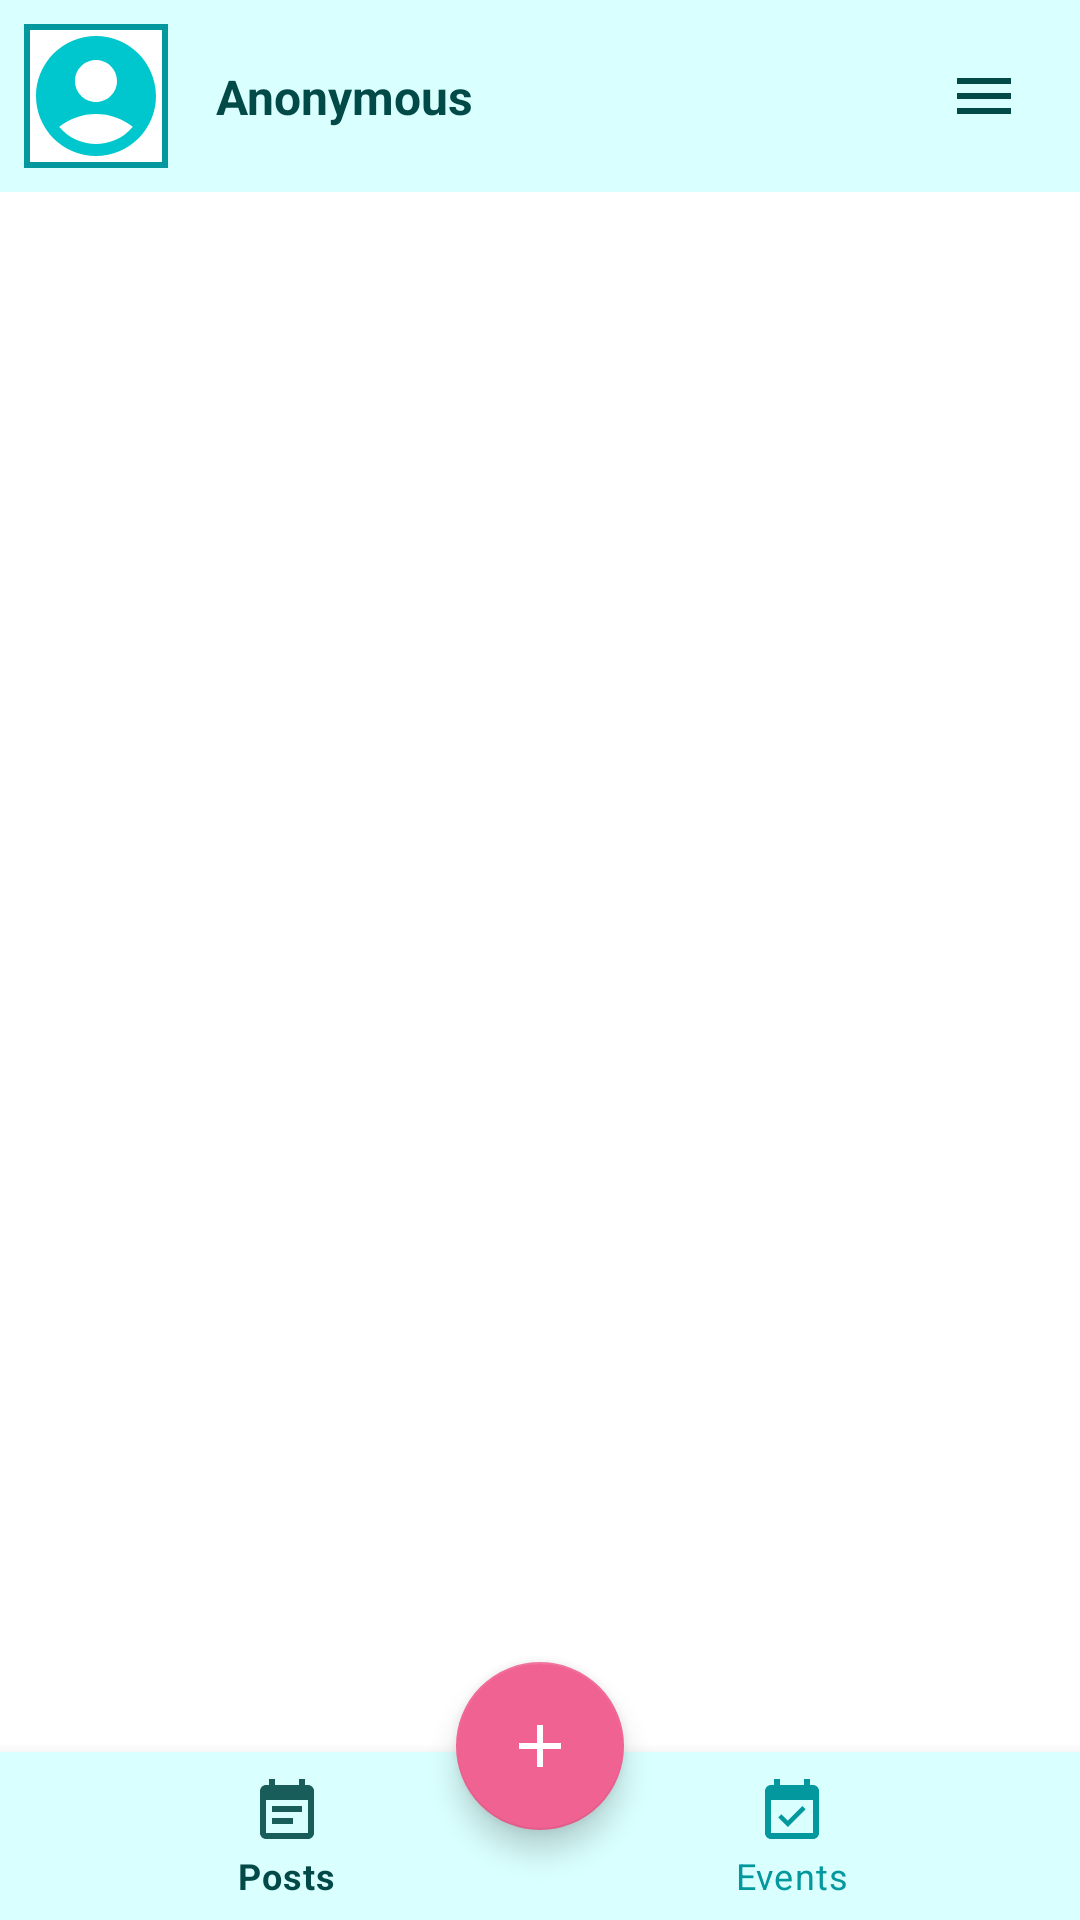

Icons on this 1080*1920 Android screen, each with the point to tap as [x,y]:
account circle: [96,96]
plus: [540,1746]
